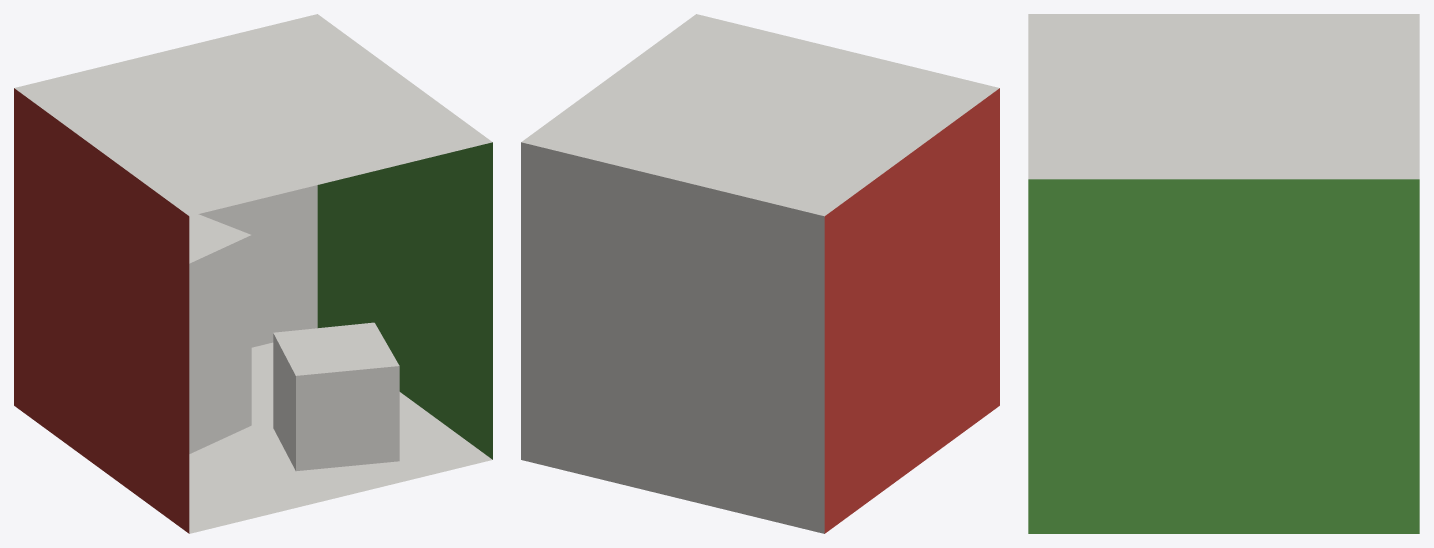
The model's file is cornell.fbx.
3 views of the same model, side by side, from view 1: azimuth 30°, elevation 25°; view 2: azimuth 150°, elevation 25°; view 3: azimuth 270°, elevation 25° (orthographic). The views are drawn at different scales.
Visible parts, largest first — view 1: cornell; view 2: cornell; view 3: cornell.
Part boxes in pixels (left/top/right/bottom): cornell: left=14, top=14, right=492, bottom=533; cornell: left=521, top=14, right=999, bottom=533; cornell: left=1028, top=14, right=1419, bottom=533.
Bounding box in the file's own units: 2 × 2.02 × 2.
